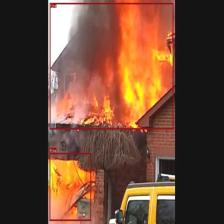fire: (50, 3, 173, 129), (50, 152, 91, 220)
